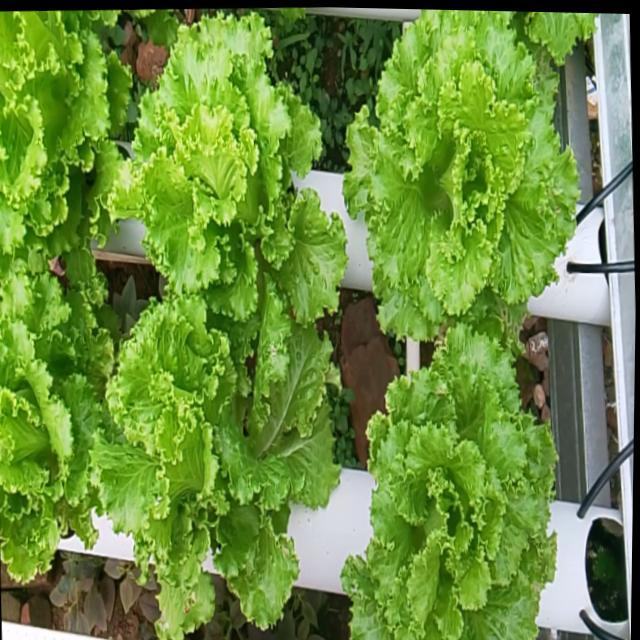Mature: (92, 296, 340, 640), (343, 9, 597, 341), (106, 10, 347, 352), (341, 320, 557, 640), (0, 10, 131, 278), (0, 267, 112, 579)
